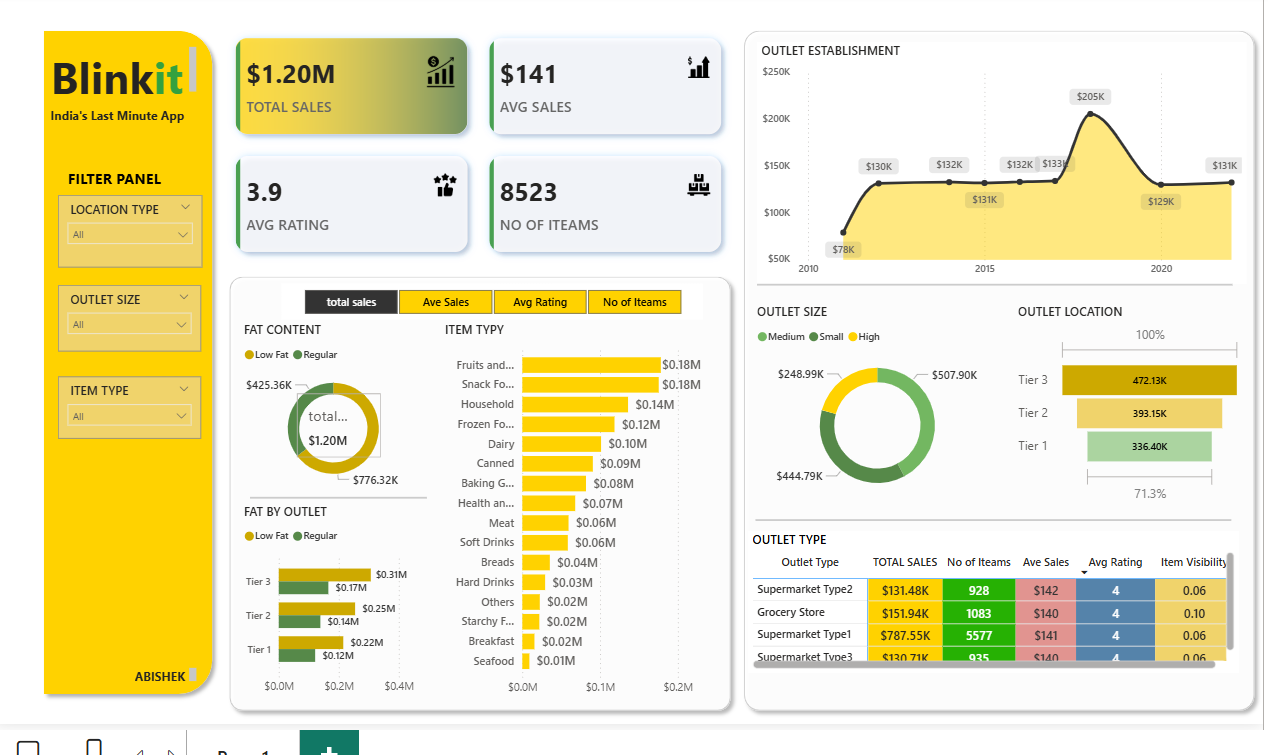

Layout of this report page (visuals, bound fields, positions):
{"tool":"powerbi","page":{"name":"Page 1","canvas":[1400,800],"ordinal":0},"visuals":[{"type":"shape","box":[45,25.5,204.1,750.4],"z":0},{"type":"textbox","box":[57,112.6,171.1,30],"z":1000},{"type":"textbox","box":[57,46.5,171.1,66],"z":2000},{"type":"cardVisual","fields":{"Data":["BlinkIT Grocery Data.total sales","BlinkIT Grocery Data.Ave Sales","BlinkIT Grocery Data.Avg Rating","BlinkIT Grocery Data.No of Iteams"]},"box":[249.1,25.5,570.3,270.2],"z":3000},{"type":"shape","box":[249.3,296.2,571,497.3],"z":4000},{"type":"donutChart","title":"FAT CONTENT","fields":{"Y":["BlinkIT Grocery Data.TOTAL SALES"],"Category":["BlinkIT Grocery Data.Item Fat Content"]},"box":[270.8,353.9,206.4,191.7],"z":5000},{"type":"slicer","fields":{"Values":["Metrics.Metrics"]},"box":[316.4,313.7,465.1,40.2],"z":6000},{"type":"cardVisual","fields":{"Data":["BlinkIT Grocery Data.TOTAL SALES"]},"box":[328.4,429,103.2,81.8],"z":7000},{"type":"clusteredBarChart","title":"FAT BY OUTLET","fields":{"Y":["BlinkIT Grocery Data.TOTAL SALES"],"Category":["BlinkIT Grocery Data.Outlet Location Type"],"Series":["BlinkIT Grocery Data.Item Fat Content"]},"box":[270.8,555,206.4,221.2],"z":8000},{"type":"shape","box":[281.2,545.3,195.3,9.4],"z":9000},{"type":"barChart","title":"ITEM TYPY","fields":{"Y":["BlinkIT Grocery Data.TOTAL SALES"],"Category":["BlinkIT Grocery Data.Item Type"]},"box":[492.2,354.7,309.4,421.9],"z":10000},{"type":"shape","box":[818.8,25,581.2,768.8],"z":11000},{"type":"lineChart","title":"OUTLET ESTABLISHMENT","fields":{"Y":["BlinkIT Grocery Data.TOTAL SALES"],"Category":["BlinkIT Grocery Data.Outlet Establishment Year"]},"box":[840.6,46.9,540.6,267.2],"z":12000},{"type":"shape","box":[840.6,295.3,525,39.1],"z":13000},{"type":"donutChart","title":"OUTLET SIZE","fields":{"Y":["BlinkIT Grocery Data.TOTAL SALES"],"Category":["BlinkIT Grocery Data.Outlet Size"]},"box":[835.9,334.4,275,225],"z":14000},{"type":"funnel","title":"OUTLET LOCATION","fields":{"Y":["Sum(BlinkIT Grocery Data.Sales)"],"Category":["BlinkIT Grocery Data.Outlet Location Type"]},"box":[1125,334.4,256.2,225],"z":15000},{"type":"shape","box":[840.3,555.2,525.4,38.8],"z":16000},{"type":"pivotTable","title":"OUTLET TYPE","fields":{"Rows":["BlinkIT Grocery Data.Outlet Type"],"Values":["BlinkIT Grocery Data.TOTAL SALES","BlinkIT Grocery Data.No of Iteams","BlinkIT Grocery Data.Ave Sales","BlinkIT Grocery Data.Avg Rating","Avg(BlinkIT Grocery Data.Item Visibility)"]},"box":[831.3,586.6,541.8,156.7],"z":17000},{"type":"slicer","fields":{"Values":["BlinkIT Grocery Data.Outlet Location Type"]},"box":[68.8,215.6,159.4,79.7],"z":18000},{"type":"slicer","fields":{"Values":["BlinkIT Grocery Data.Outlet Size"]},"box":[68.8,314.1,157.8,73.4],"z":19000},{"type":"slicer","fields":{"Values":["BlinkIT Grocery Data.Item Type"]},"box":[68.8,415.6,157.8,68.8],"z":20000},{"type":"textbox","box":[45.3,181.2,164.1,34.4],"z":21000}]}

Visuals, with their boxes on the page's 1400x800 design canvas (x1, y1, x2, y2). These are canvas units, not pixel positions in the 1268x755 screenshot, which may show the page scaled, cropped or inside an application window:
shape: BBox(45, 26, 249, 776)
textbox: BBox(57, 113, 228, 143)
textbox: BBox(57, 46, 228, 112)
cardVisual - BlinkIT Grocery Data.total sales x BlinkIT Grocery Data.Ave Sales: BBox(249, 26, 819, 296)
shape: BBox(249, 296, 820, 794)
"FAT CONTENT" donutChart: BBox(271, 354, 477, 546)
slicer - Metrics.Metrics: BBox(316, 314, 782, 354)
cardVisual - BlinkIT Grocery Data.TOTAL SALES: BBox(328, 429, 432, 511)
"FAT BY OUTLET" clusteredBarChart: BBox(271, 555, 477, 776)
shape: BBox(281, 545, 476, 555)
"ITEM TYPY" barChart: BBox(492, 355, 802, 777)
shape: BBox(819, 25, 1400, 794)
"OUTLET ESTABLISHMENT" lineChart: BBox(841, 47, 1381, 314)
shape: BBox(841, 295, 1366, 334)
"OUTLET SIZE" donutChart: BBox(836, 334, 1111, 559)
"OUTLET LOCATION" funnel: BBox(1125, 334, 1381, 559)
shape: BBox(840, 555, 1366, 594)
"OUTLET TYPE" pivotTable: BBox(831, 587, 1373, 743)
slicer - BlinkIT Grocery Data.Outlet Location Type: BBox(69, 216, 228, 295)
slicer - BlinkIT Grocery Data.Outlet Size: BBox(69, 314, 227, 388)
slicer - BlinkIT Grocery Data.Item Type: BBox(69, 416, 227, 484)
textbox: BBox(45, 181, 209, 216)
